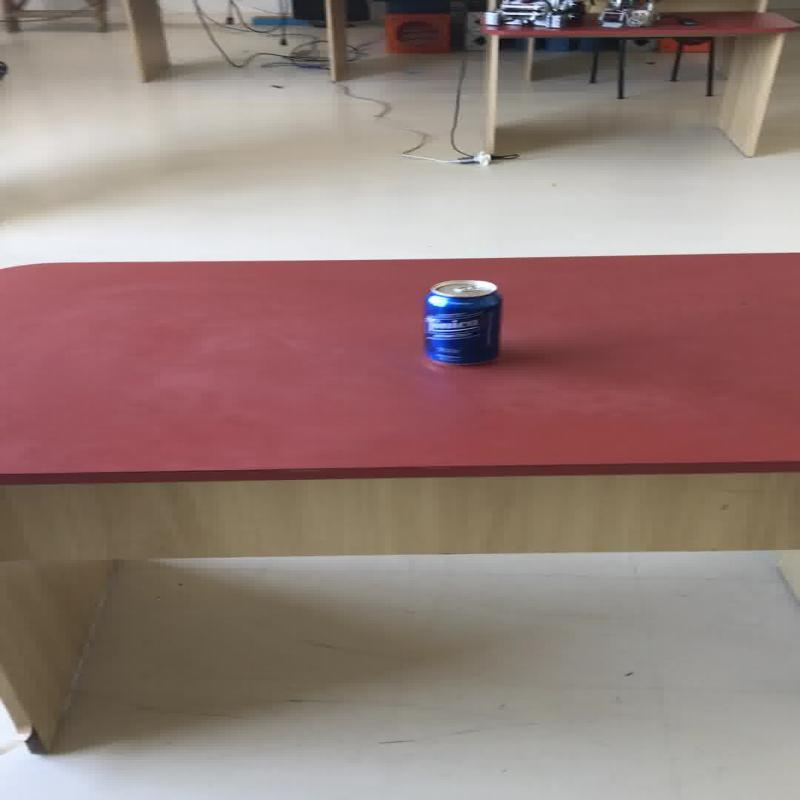tonic: (420, 278, 501, 365)
